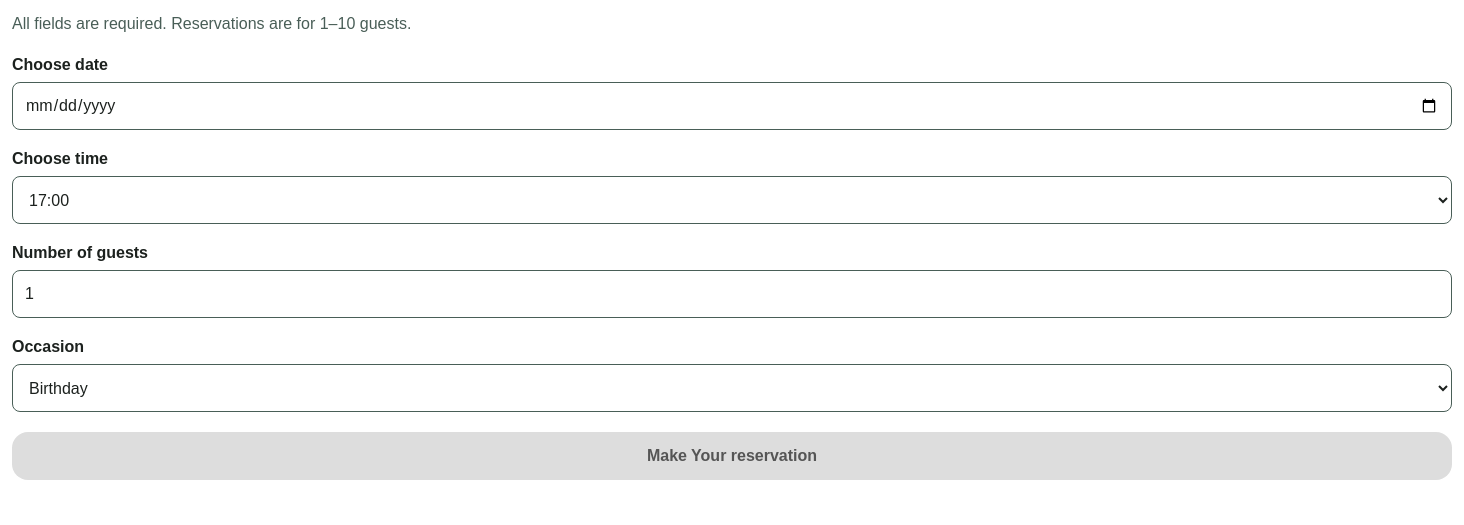
blocks submission for invalid guest count ""
This screenshot has width=1464, height=525.
Later steps or results of the test are not shown.
Step 1. Type "2026-12-12" into the date field labelled "Choose date" → {"x": 732, "y": 106}, box left=12, top=82, right=1452, bottom=130
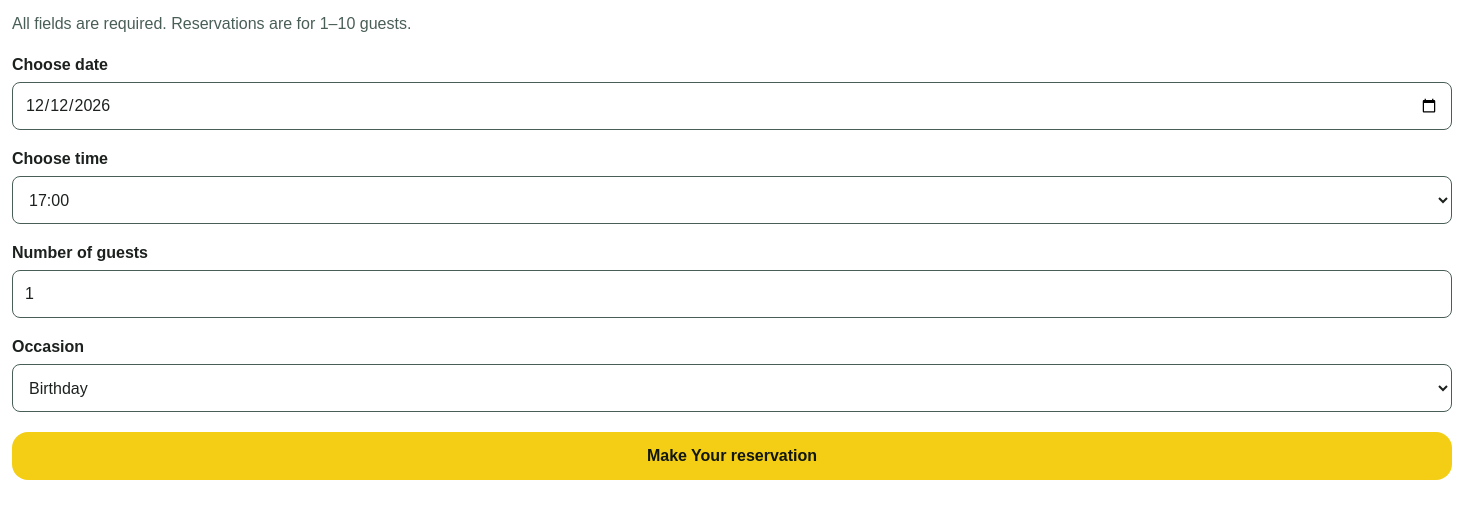
Step 2. Clear the number field labelled "Number of guests" → {"x": 732, "y": 294}, box left=12, top=270, right=1452, bottom=318
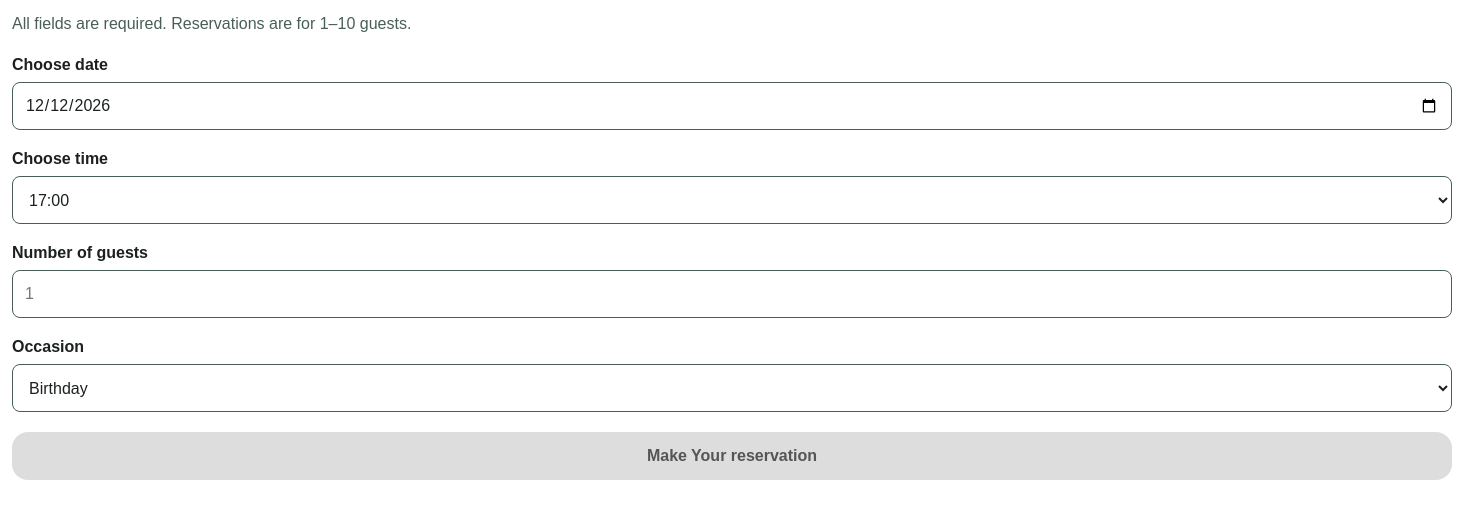
Step 3. Leave the number field labelled "Number of guests", box left=12, top=270, right=1452, bottom=318
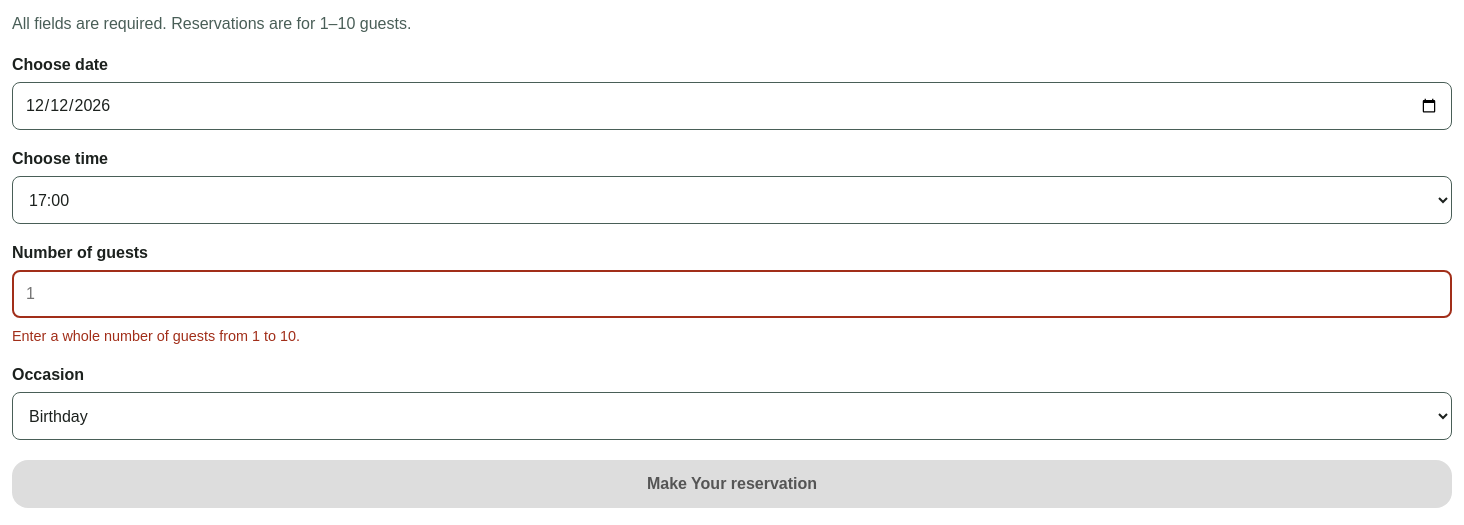
Now the button "Make Your reservation" is disabled, box left=12, top=460, right=1452, bottom=508
